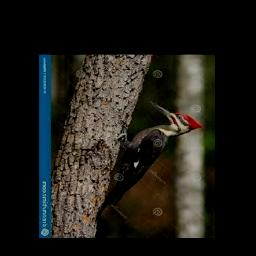Woodpecker: (96, 101, 201, 221)
